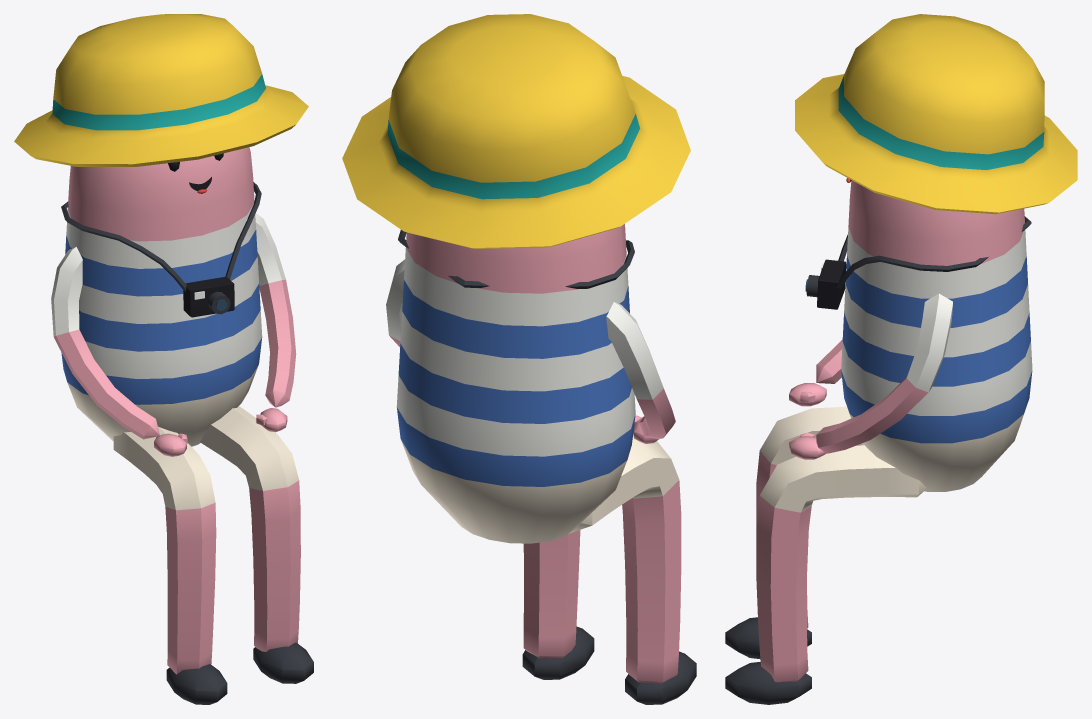
File: PasajeroTurista.fbx
The picture shows the model from 3 angles, left to right: view 1: azimuth 30°, elevation 25°; view 2: azimuth 150°, elevation 25°; view 3: azimuth 270°, elevation 25°; orthographic projection. The views are drawn at different scales.
Parts seen in each view (by area): view 1: PasajeroTurista; view 2: PasajeroTurista; view 3: PasajeroTurista.
Boxes of the visible parts, box(x1,y1,x2,y2) form: PasajeroTurista: box(14, 14, 313, 704); PasajeroTurista: box(342, 14, 696, 704); PasajeroTurista: box(725, 14, 1077, 704).
Size of the model in its own units: 2.4 by 5.27 by 2.63.
Materials: 1 (1 with a texture image).
